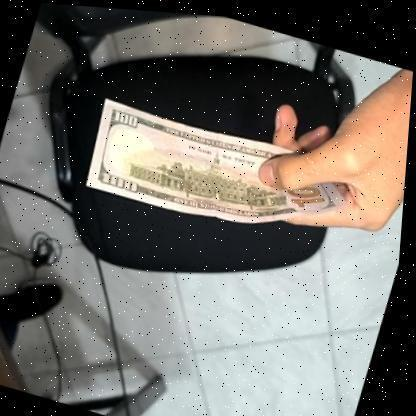one_hundred-back: (79, 87, 364, 255)
